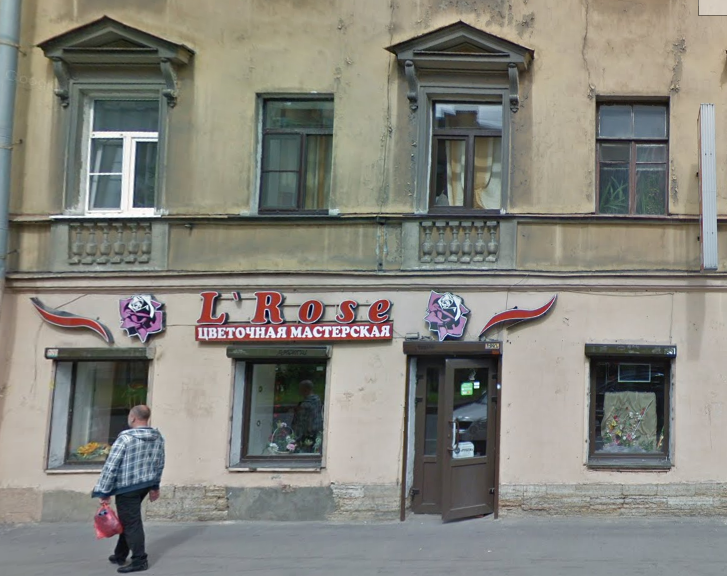cantilever: (691, 102, 721, 271)
door: (419, 354, 496, 523)
signboard: (24, 284, 555, 345)
window: (241, 353, 328, 463), (77, 95, 158, 213), (590, 356, 674, 465), (64, 358, 148, 463), (429, 103, 506, 214), (260, 98, 333, 214), (596, 103, 668, 214)
